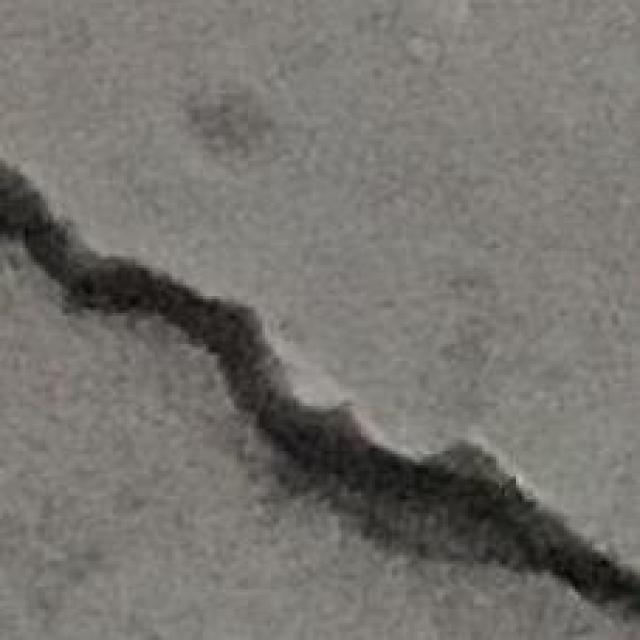Diagonal: (0, 152, 633, 639)
